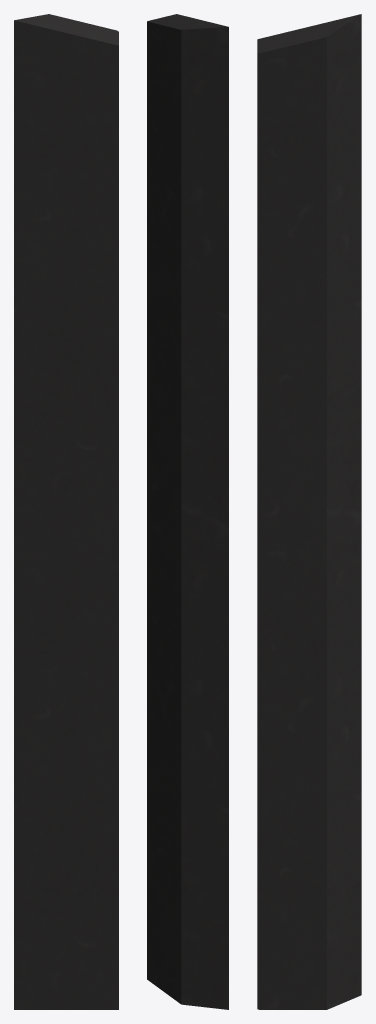
Rendered from A13.1.1 H.WALL. PNL 4681 ICL.E.fbx.
3 views of the same model, side by side, from view 1: azimuth 90°, elevation 25°; view 2: azimuth 210°, elevation 25°; view 3: azimuth 270°, elevation 25° (orthographic).
Parts seen in each view (by area): view 1: Mesh1; view 2: Mesh1; view 3: Mesh1.
Boxes of the visible parts, box(x1,y1,x2,y2) form: Mesh1: box(14, 14, 118, 1009); Mesh1: box(147, 14, 228, 1009); Mesh1: box(257, 14, 361, 1009).
Size of the model in its own units: 150 by 4681 by 450.
